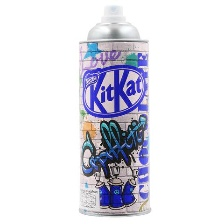aerosol_cans: (69, 0, 160, 221)
